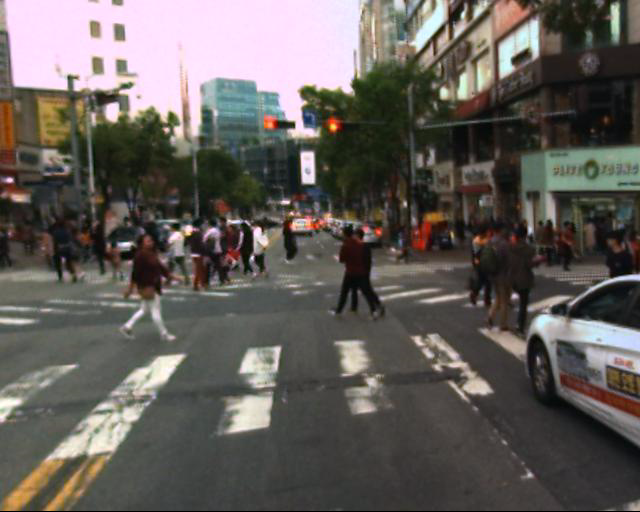person: (121, 214, 181, 353), (487, 219, 540, 354), (435, 217, 532, 277), (540, 220, 631, 274), (335, 224, 380, 331), (351, 219, 390, 322), (166, 204, 205, 302), (195, 213, 228, 297), (473, 219, 505, 295), (162, 220, 193, 298), (55, 223, 82, 291), (92, 219, 120, 283), (503, 225, 533, 281), (34, 226, 59, 277)
